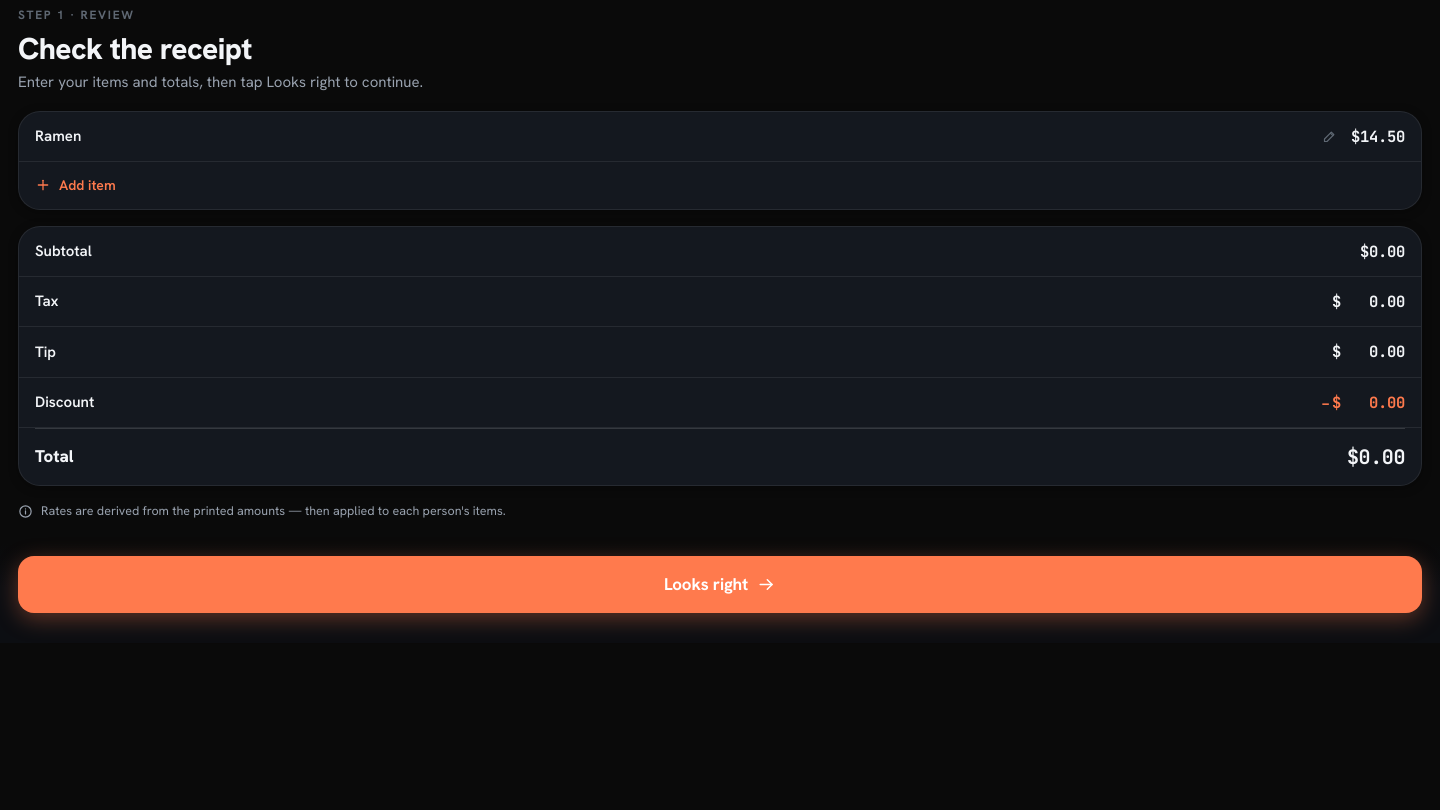
it: items editing › clicking an item row opens name and price inputs
Button accessible name includes the price text — use regex
Step 1. Click the button "Ramen $14.50" → {"x": 58, "y": 136}, box [19, 112, 1421, 162]
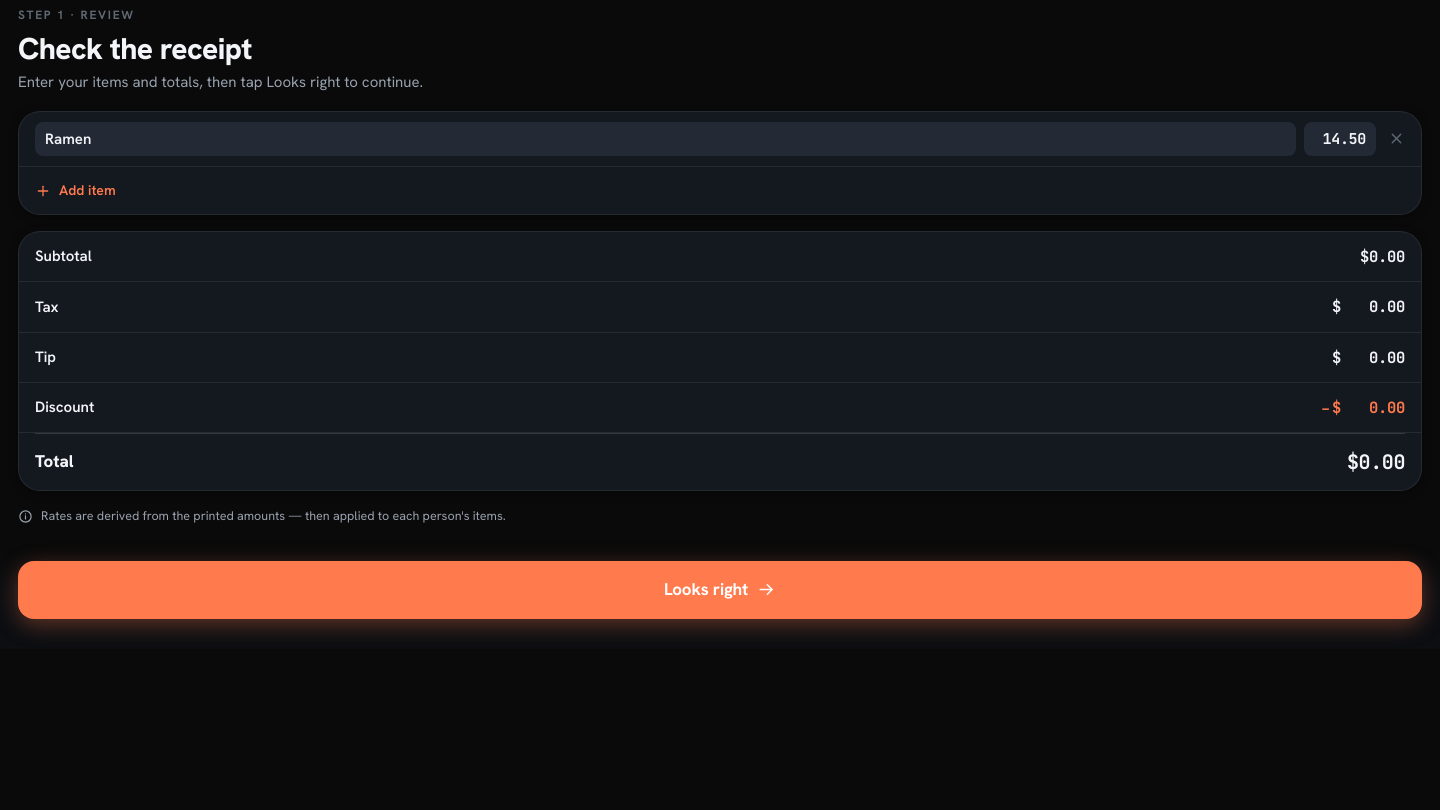
Check: the field named "item name" is shown, box [35, 122, 1296, 156]
Check: the field named "item price" is shown, box [1304, 122, 1376, 156]
